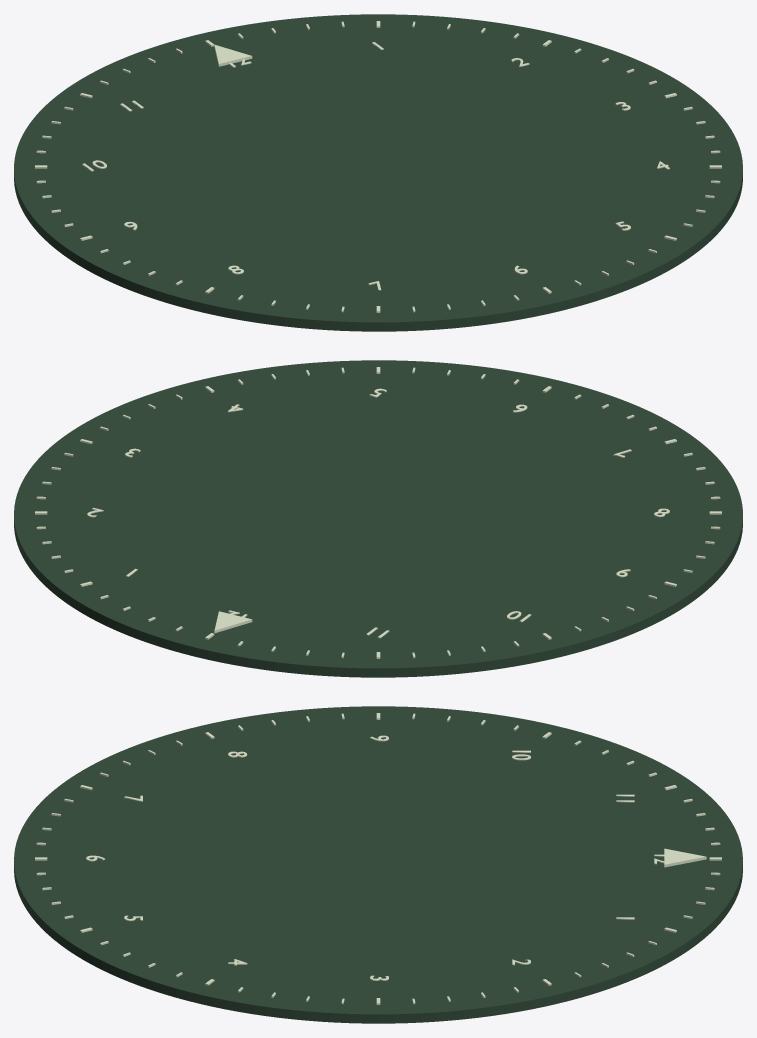
File: dial-field.glb
3 renders of one model, top to bottom at view 1: azimuth 30°, elevation 25°; view 2: azimuth 150°, elevation 25°; view 3: azimuth 270°, elevation 25°, orthographic.
Visible parts, largest first — view 1: DD_ARCH_DIAL_FACE; view 2: DD_ARCH_DIAL_FACE; view 3: DD_ARCH_DIAL_FACE.
Part boxes in pixels (left/top/right/bottom): DD_ARCH_DIAL_FACE: left=14, top=14, right=742, bottom=331; DD_ARCH_DIAL_FACE: left=14, top=360, right=742, bottom=677; DD_ARCH_DIAL_FACE: left=14, top=706, right=742, bottom=1023.
Bounding box in the file's own units: 28.5 × 0.56 × 28.5.
